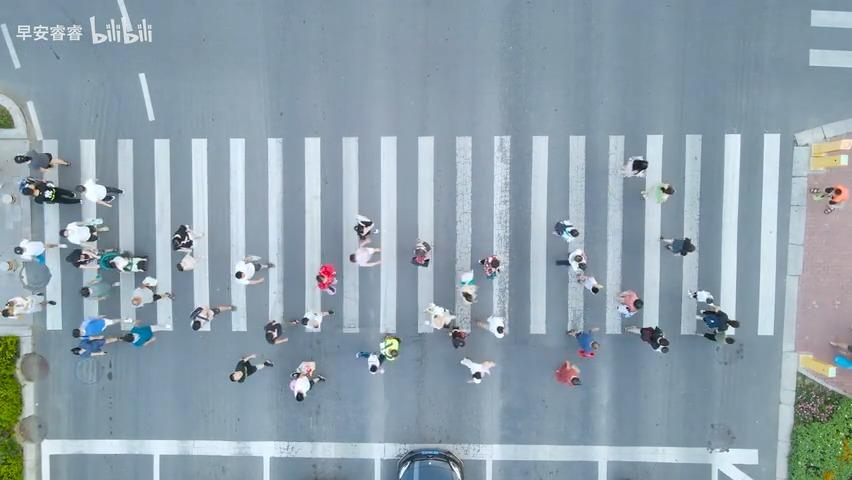Civilian: (71, 315, 129, 355), (355, 334, 401, 374), (18, 176, 81, 205), (0, 291, 55, 323), (288, 360, 325, 401), (75, 177, 123, 208), (13, 148, 71, 173), (59, 217, 109, 245), (229, 352, 274, 383), (130, 276, 174, 307), (76, 276, 123, 305), (699, 308, 739, 342), (13, 238, 66, 263), (188, 304, 237, 331), (623, 325, 670, 353), (233, 254, 274, 285), (98, 248, 148, 273), (63, 242, 102, 274), (557, 245, 594, 276), (809, 184, 847, 214), (117, 319, 156, 347), (566, 326, 600, 357), (459, 356, 495, 384), (349, 236, 381, 267), (290, 309, 334, 329), (171, 224, 203, 251), (424, 302, 455, 329), (640, 181, 675, 204), (615, 289, 643, 317), (687, 288, 719, 312), (659, 236, 695, 256), (355, 350, 385, 374), (474, 315, 505, 338), (315, 263, 337, 295), (554, 360, 581, 386), (458, 269, 478, 303), (828, 340, 851, 368), (410, 237, 431, 267), (263, 319, 288, 344), (551, 219, 579, 241), (175, 250, 203, 272), (575, 273, 603, 294), (620, 156, 648, 177), (379, 334, 401, 360), (478, 255, 500, 279), (352, 214, 374, 237), (447, 326, 469, 348)
